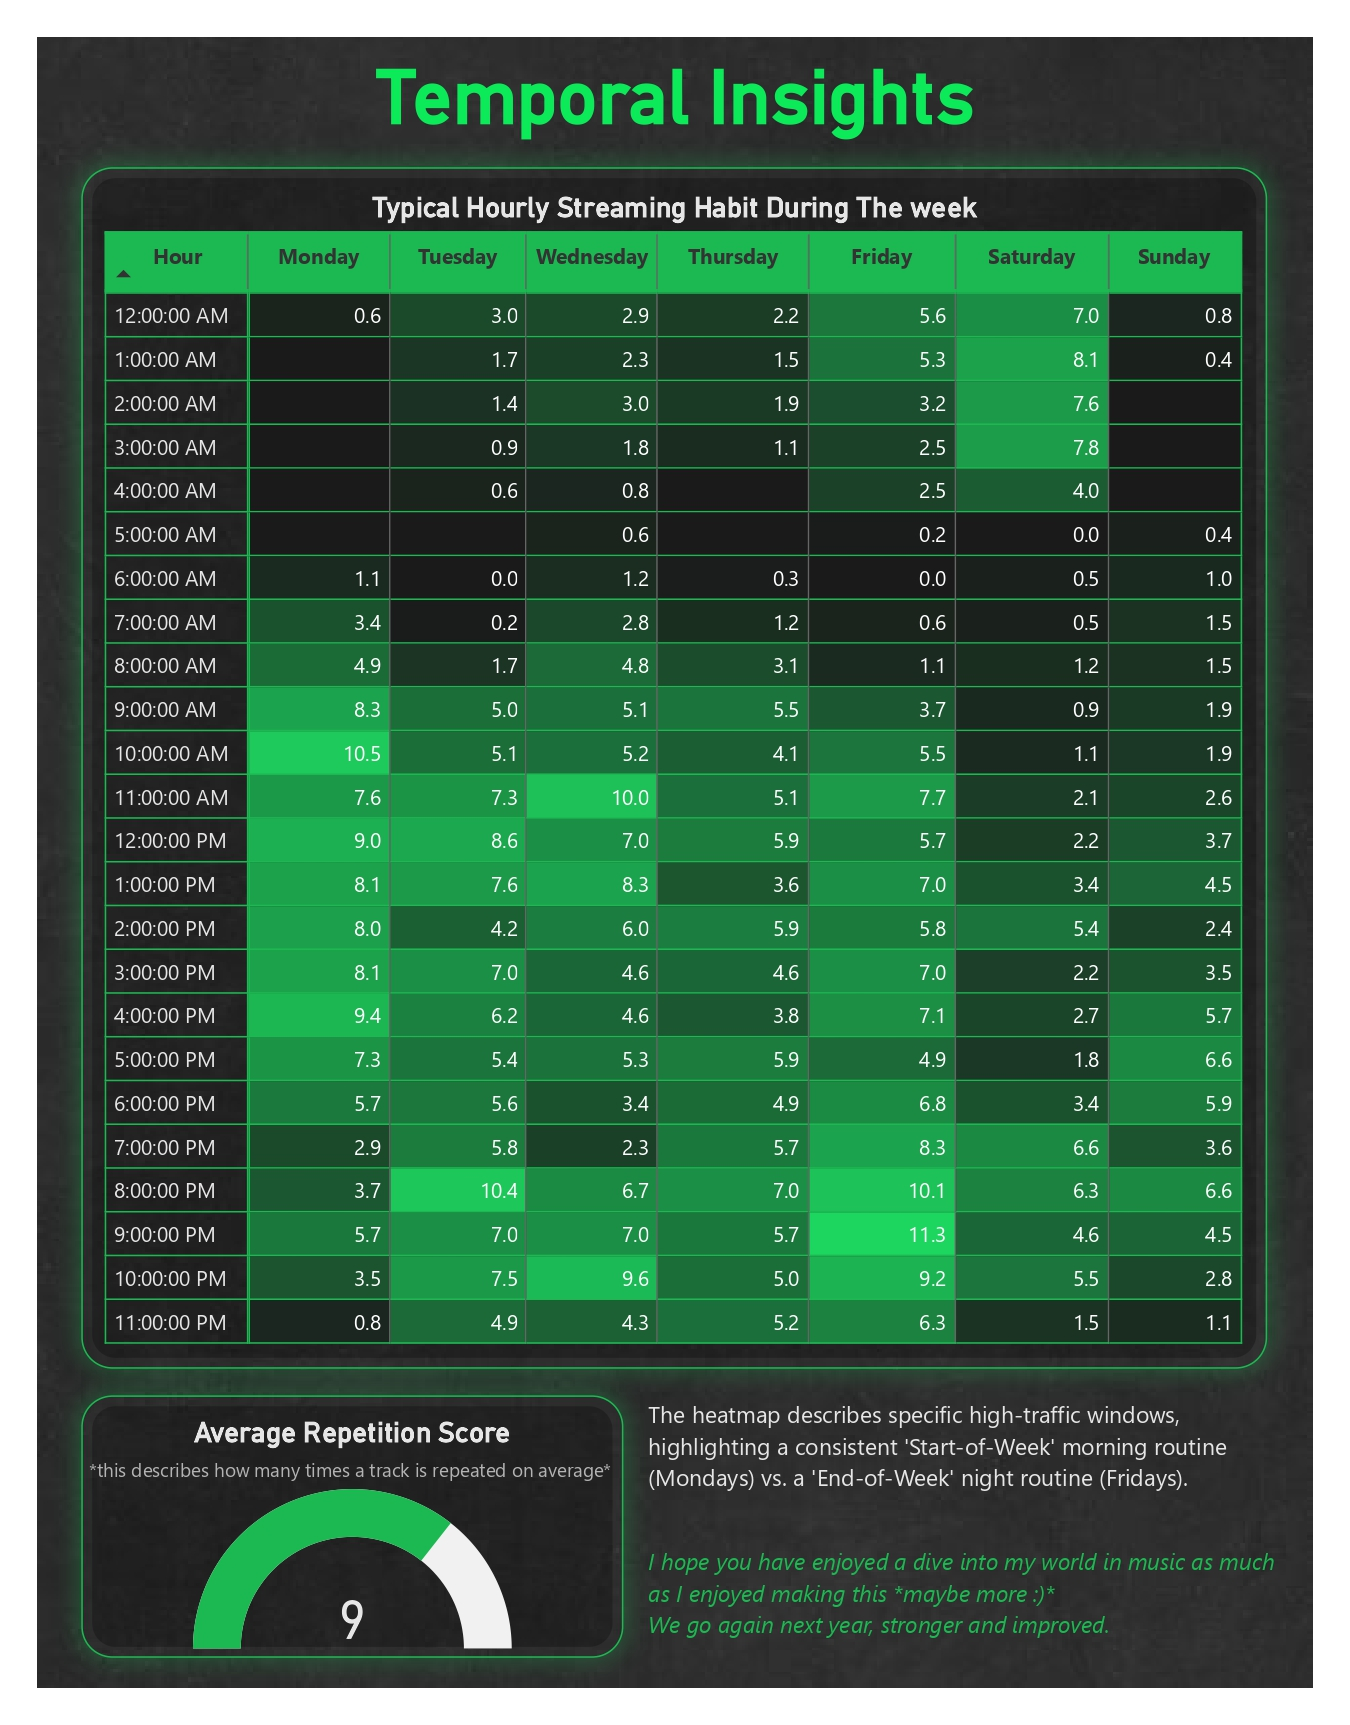

Layout of this report page (visuals, bound fields, positions):
{"tool":"powerbi","page":{"name":"Temporal Insights 2","canvas":[816,1056],"ordinal":7},"visuals":[{"type":"textbox","box":[0,5,816,71],"z":0},{"type":"shape","box":[28.1,82.6,759,768.9],"z":0,"group":"g2"},{"type":"pivotTable","title":"Typical Hourly Streaming Habit During The week","fields":{"Values":["Sum(Streaming dataset.Hours)"],"Columns":["Streaming dataset.Day_name"],"Rows":["Streaming dataset.Listen_Hour"]},"box":[28.1,82.6,759,768.9],"z":1000,"group":"g2"},{"type":"group","id":"g1","title":"Group 2","box":[28.2,869.4,347.1,171.8],"z":1000},{"type":"shape","box":[28.2,869.4,346.7,168.4],"z":1500,"group":"g1"},{"type":"textbox","box":[385.9,865.9,418.8,171.8],"z":2000},{"type":"gauge","title":"Average Repetition Score","fields":{"Y":["Streaming dataset.Variety_Score"]},"box":[28.2,872.5,346.5,168.4],"z":2000,"group":"g1"},{"type":"group","id":"g2","title":"Group 1","box":[28.1,82.6,759,768.9],"z":3000}]}

Visuals, with their boxes on the page's 816x1056 design canvas (x1, y1, x2, y2). These are canvas units, not pixel positions in the 1350x1725 screenshot, which may show the page scaled, cropped or inside an application window:
textbox: detection(0, 5, 816, 76)
shape: detection(28, 83, 787, 852)
"Typical Hourly Streaming Habit During The week" pivotTable: detection(28, 83, 787, 852)
"Group 2" group: detection(28, 869, 375, 1041)
shape: detection(28, 869, 375, 1038)
textbox: detection(386, 866, 805, 1038)
"Average Repetition Score" gauge: detection(28, 872, 375, 1041)
"Group 1" group: detection(28, 83, 787, 852)
